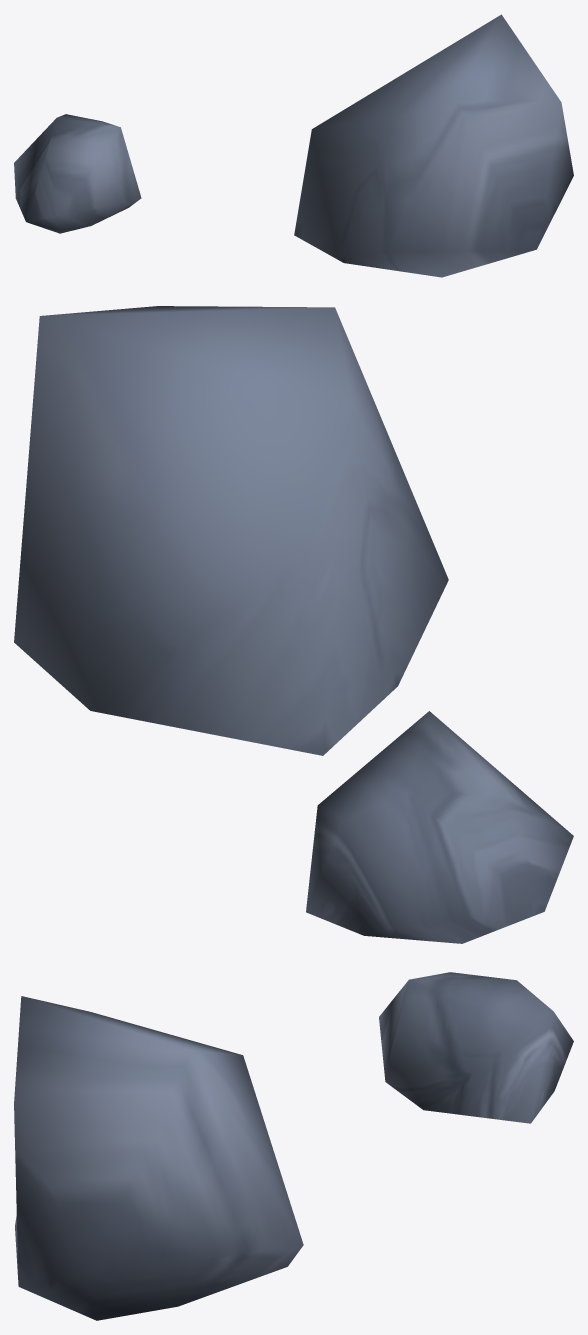
The model's file is PedraAraucareaPequena.fbx.
The picture shows the model from 3 angles, top to bottom: view 1: azimuth 30°, elevation 25°; view 2: azimuth 150°, elevation 25°; view 3: azimuth 270°, elevation 25°; orthographic projection. The views are drawn at different scales.
Parts seen in each view (by area): view 1: Cube; view 2: Cube; view 3: Cube.
Part boxes in pixels (bbox=[...]): Cube: bbox=[14, 14, 573, 277]; Cube: bbox=[14, 306, 573, 943]; Cube: bbox=[14, 972, 573, 1320].
Bounding box in the file's own units: 174 × 76.04 × 145.
